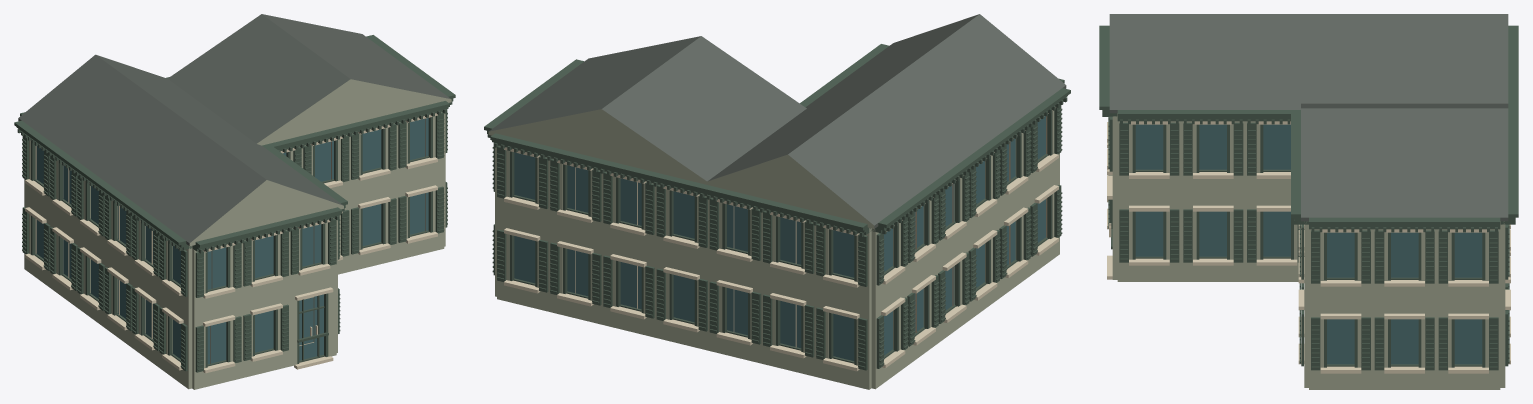
The model's file is courtyard-house.glb.
3 renders of one model, left to right at view 1: azimuth 30°, elevation 25°; view 2: azimuth 150°, elevation 25°; view 3: azimuth 270°, elevation 25°, orthographic. The views are drawn at different scales.
Visible parts, largest first — view 1: Roof main.004, Roof wing.002, Gable wing.001, Gable main.002, main/north/0/1667/wall.001, main/north/0/5000/wall.001, wing/north/0/8750/wall, wing/north/0/6250/wall, main/north/0/8333/wall.001, main/north/1/1667/wall.001, main/west/0/9167/wall, main/north/0/8333/glass.001 (+84 smaller); view 2: Roof main.004, Roof wing.002, Gable wing.001, Gable main.002, main/south/0/1667/wall.001, wing/south/0/6250/wall, wing/south/0/3750/wall, wing/south/0/1250/wall, main/south/0/8333/wall.001, wing/south/0/8750/wall, main/south/0/5000/wall.001, main/south/1/1667/wall.001 (+96 smaller); view 3: Roof main.004, Roof wing.002, wing/east/0/5000/wall.002, main/east/0/7500/wall, main/east/0/9167/wall, wing/east/0/1667/wall.002, wing/east/0/8333/wall.002, wing/east/1/5000/wall, main/east/0/5833/wall, main/east/1/7500/wall, wing/east/1/1667/wall, main/east/1/9167/wall (+64 smaller).
Part boxes in pixels (bbox=[...]): Roof main.004: bbox=[18, 54, 343, 245]; Roof wing.002: bbox=[167, 14, 450, 143]; Gable wing.001: bbox=[257, 79, 451, 145]; Gable main.002: bbox=[189, 180, 343, 246]; main/north/0/1667/wall.001: bbox=[192, 304, 241, 389]; main/north/0/5000/wall.001: bbox=[241, 292, 289, 378]; wing/north/0/8750/wall: bbox=[396, 174, 444, 260]; wing/north/0/6250/wall: bbox=[349, 186, 396, 271]; main/north/0/8333/wall.001: bbox=[289, 281, 336, 366]; main/north/1/1667/wall.001: bbox=[192, 241, 241, 315]; main/west/0/9167/wall: bbox=[161, 295, 192, 389]; main/north/0/8333/glass.001: bbox=[299, 294, 323, 360]; Roof main.004: bbox=[707, 14, 1066, 228]; Roof wing.002: bbox=[489, 36, 806, 181]; Gable wing.001: bbox=[488, 109, 707, 184]; Gable main.002: bbox=[707, 154, 874, 228]; main/south/0/1667/wall.001: bbox=[816, 293, 871, 389]; wing/south/0/6250/wall: bbox=[550, 228, 603, 324]; wing/south/0/3750/wall: bbox=[603, 241, 656, 337]; wing/south/0/1250/wall: bbox=[656, 254, 709, 350]; main/south/0/8333/wall.001: bbox=[709, 267, 762, 363]; wing/south/0/8750/wall: bbox=[497, 215, 549, 311]; main/south/0/5000/wall.001: bbox=[763, 280, 815, 376]; main/south/1/1667/wall.001: bbox=[816, 223, 871, 306]; Roof main.004: bbox=[1109, 14, 1508, 113]; Roof wing.002: bbox=[1301, 103, 1508, 221]; wing/east/0/5000/wall.002: bbox=[1372, 303, 1436, 389]; main/east/0/7500/wall: bbox=[1181, 195, 1245, 281]; main/east/0/9167/wall: bbox=[1117, 195, 1181, 281]; wing/east/0/1667/wall.002: bbox=[1436, 303, 1500, 389]; wing/east/0/8333/wall.002: bbox=[1309, 303, 1372, 389]; wing/east/1/5000/wall: bbox=[1372, 229, 1436, 303]; main/east/0/5833/wall: bbox=[1245, 195, 1298, 281]; main/east/1/7500/wall: bbox=[1181, 121, 1245, 195]; wing/east/1/1667/wall: bbox=[1436, 229, 1500, 303]; main/east/1/9167/wall: bbox=[1117, 121, 1181, 195].
Bounding box in the file's own units: 15.13 × 7.9 × 13.13.
